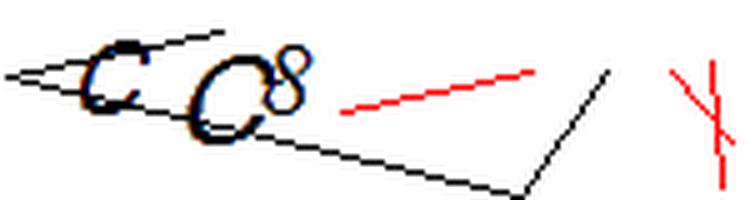8: (258, 37, 321, 122)
C: (181, 46, 283, 152), (74, 30, 156, 122)
